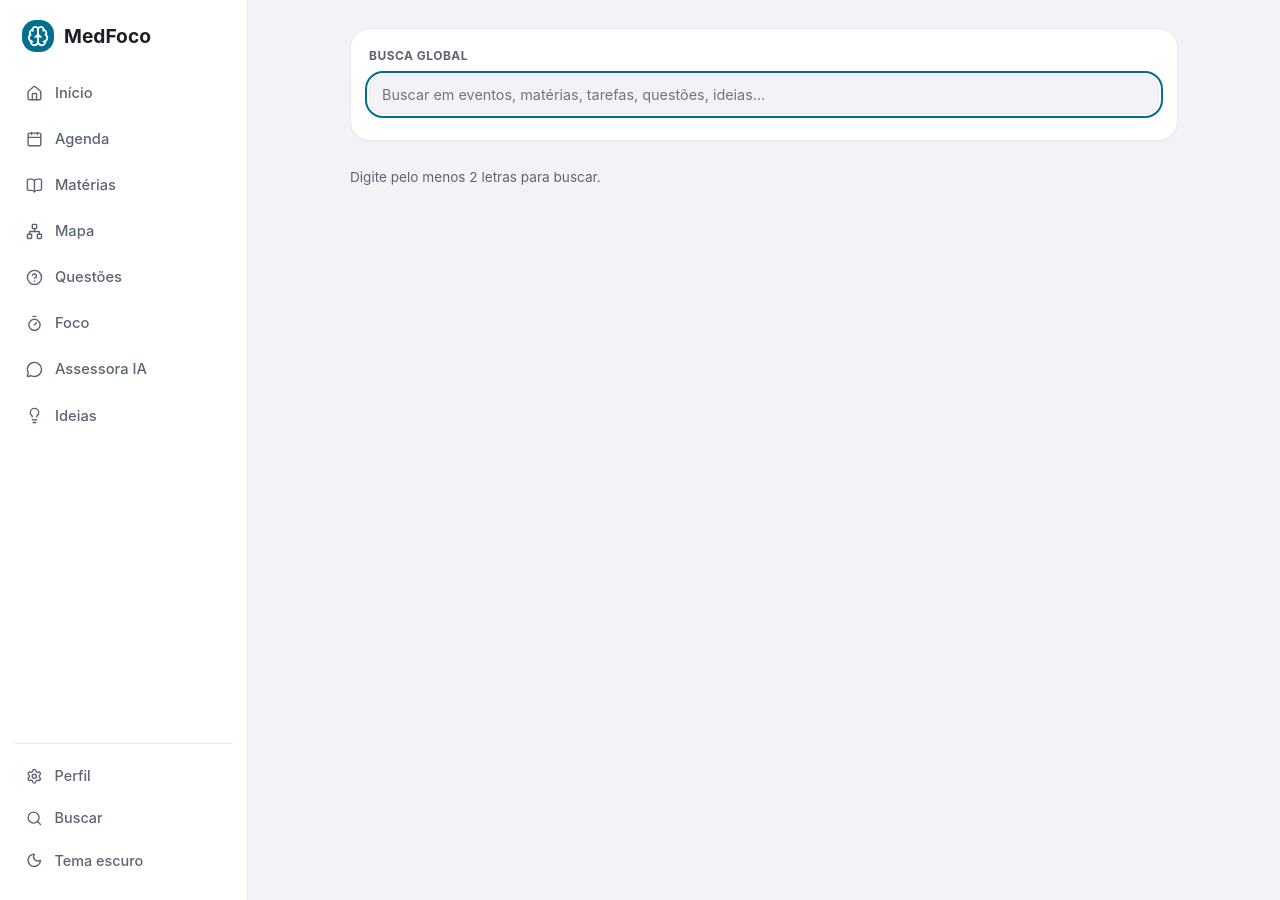
Scenario: Busca › mostra o detalhe de cada item e a contagem por área
Type "cardiologia" into the search field named "Texto da busca" at [764, 94], box [369,75,1159,114]
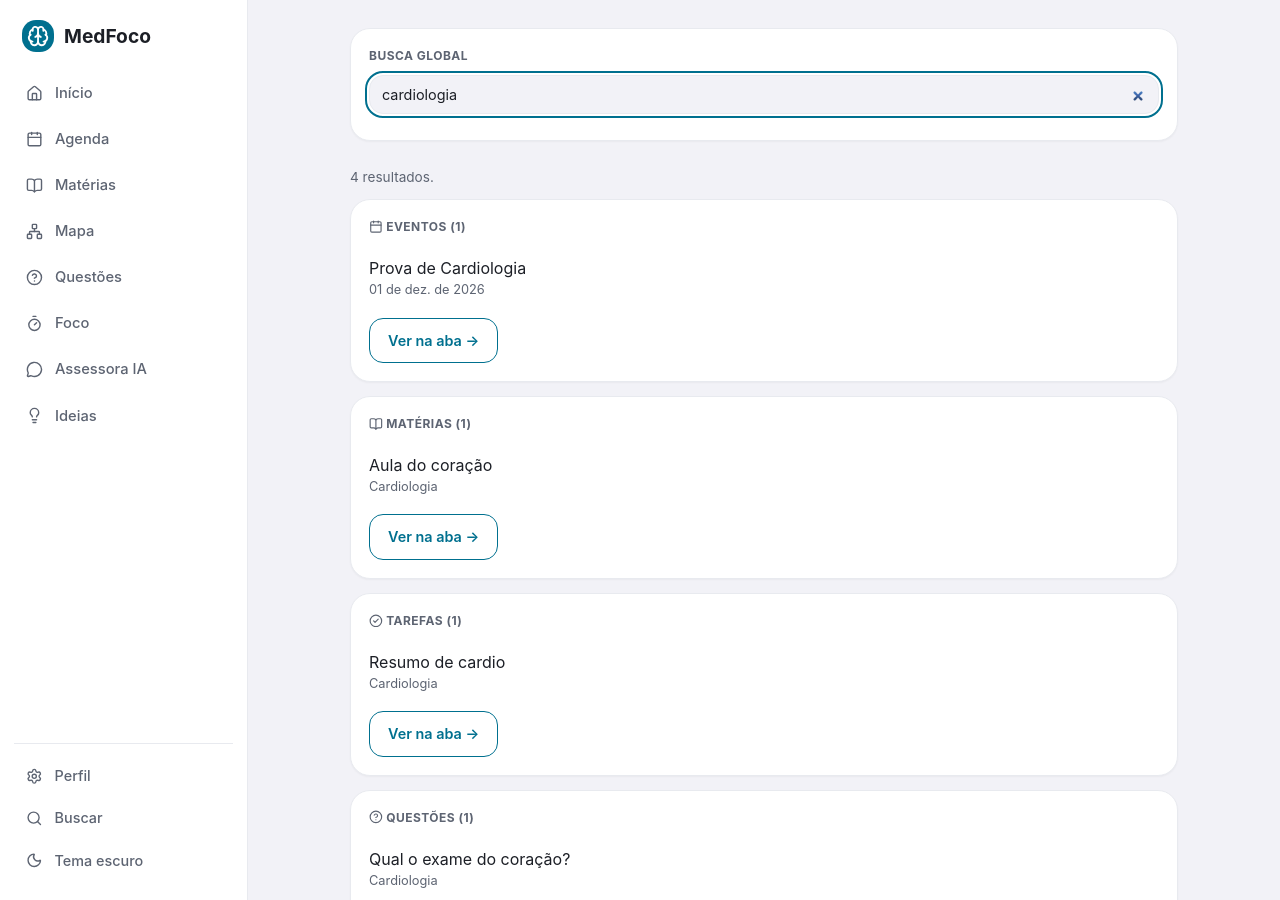
Result: the message reads "4 resultados." at [350,169,434,185]
Result: the text "Cardiologia" below "Aula do coração" is shown at [369,479,438,494]
Result: the heading "Tarefas (1)" is shown at [369,613,462,628]
